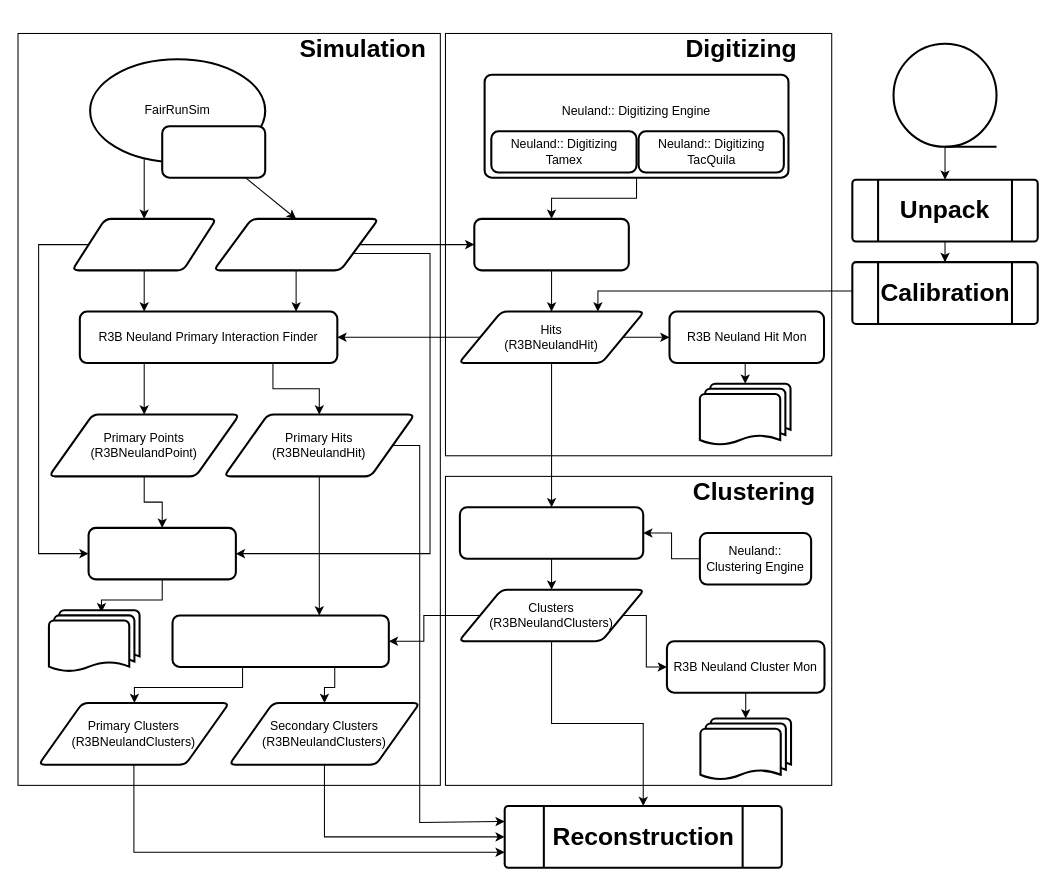
Some shapes in this 1057 by 887 pixel diagram are drawn without their labels. The centre of each missing label's shape, as x and y in pixels:
Experimental Data: the point at 944,94
Points (R3BNeulandPoint): the point at 295,244
R3B Neuland: the point at 213,151
R3B Neuland Cluster Finder: the point at 551,532
R3B Neuland Digitizer: the point at 551,244
R3B Neuland MC Mon: the point at 161,553
R3B Neuland Primary Cluster Finder: the point at 280,640
Tracks (R3BMCTrack): the point at 144,244
